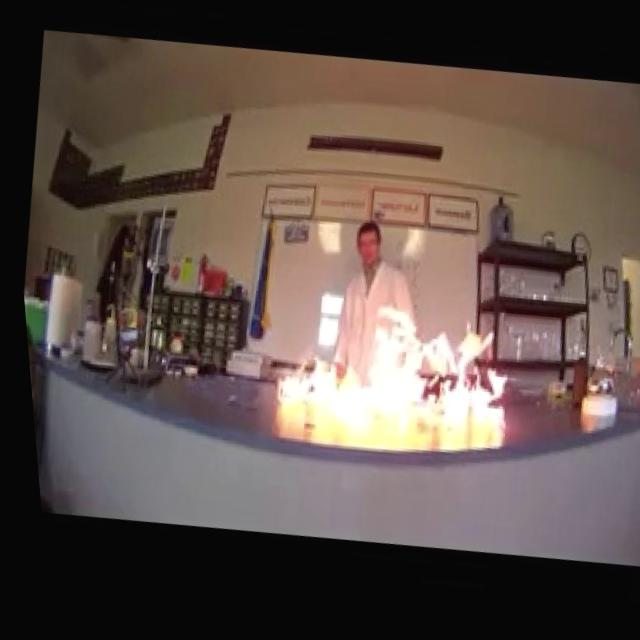helmet: (255, 282, 517, 453)
